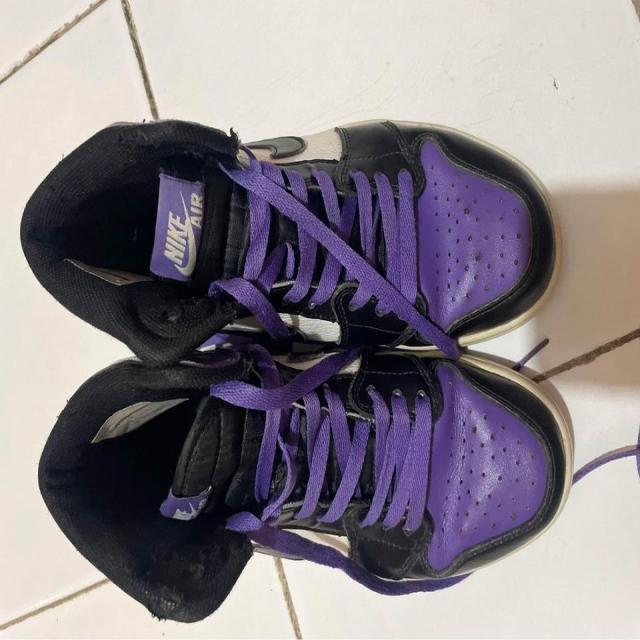nike fake jordan 1: (38, 352, 594, 624), (19, 122, 562, 358)
